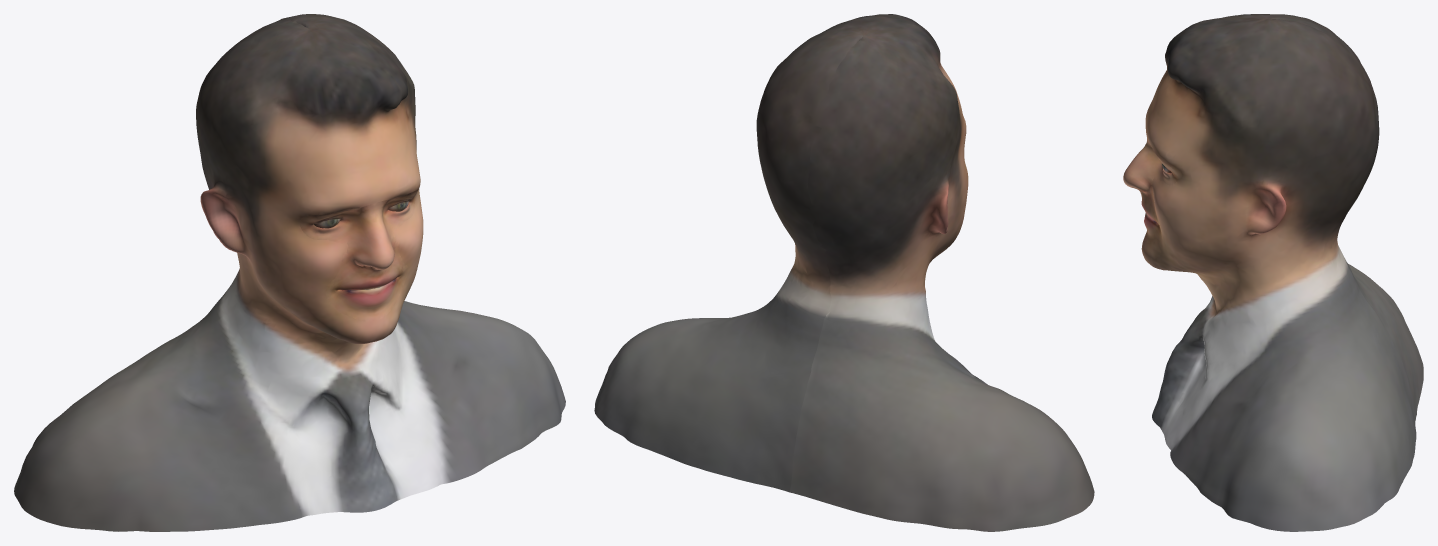
Rendered from Ness.gltf.
The picture shows the model from 3 angles, left to right: view 1: azimuth 30°, elevation 25°; view 2: azimuth 150°, elevation 25°; view 3: azimuth 270°, elevation 25°; orthographic projection. The views are drawn at different scales.
Parts seen in each view (by area): view 1: Ness; view 2: Ness; view 3: Ness.
Part boxes in pixels (x1=…): Ness: x1=14, y1=14, x2=565, y2=531; Ness: x1=594, y1=14, x2=1094, y2=531; Ness: x1=1123, y1=14, x2=1423, y2=531.
Bounding box in the file's own units: 10.51 × 8.4 × 5.74.
Materials: 1 (1 with a texture image).
